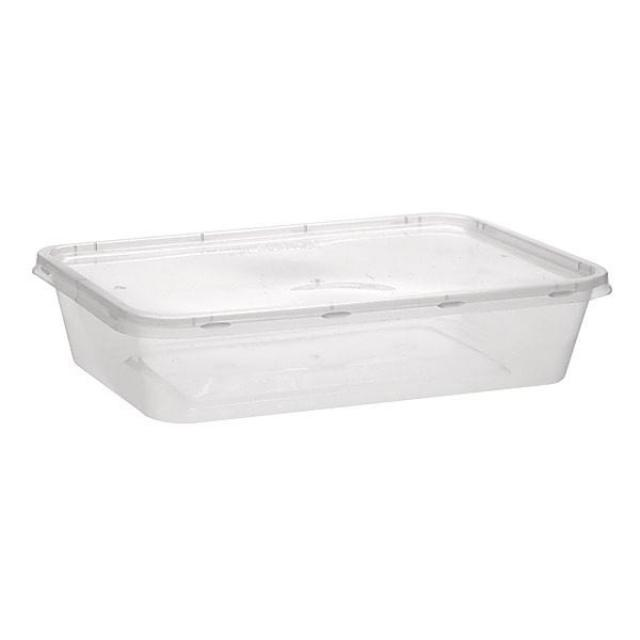plastic: (33, 213, 610, 421)
